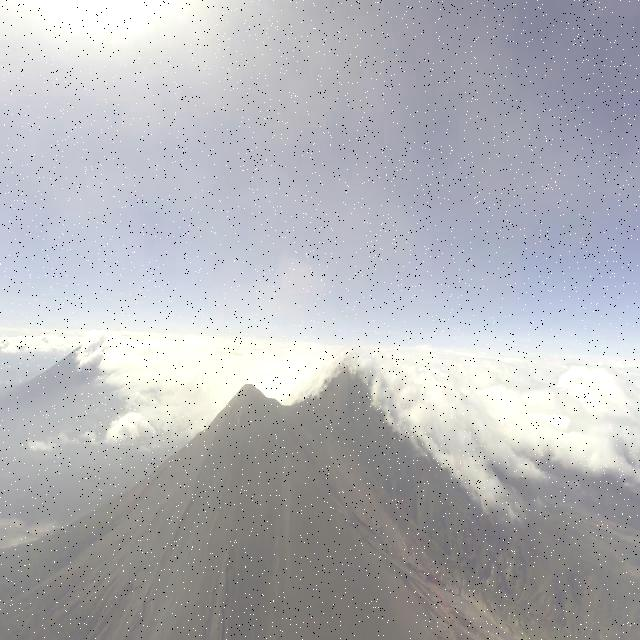Summit: (226, 380, 281, 423)
